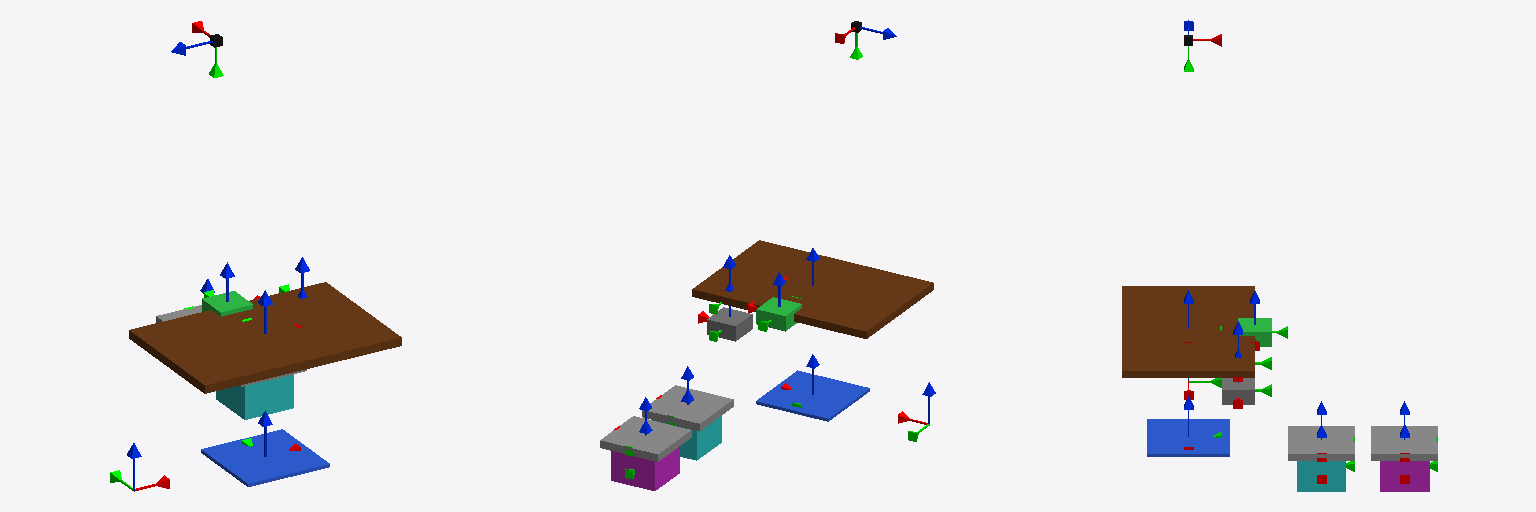
--- Render facts (derived) ---
3 views of the same robot in one strip: view 1: azimuth 30°, elevation 25°; view 2: azimuth 150°, elevation 25°; view 3: azimuth 270°, elevation 25° (orthographic).
Model burger_delivery_visual with 12 links and 11 joints (11 fixed), rooted at map, posed all joints at 0.
Visible links, largest first — view 1: table_link, staging_area, robot_a_base_link, delivery_slot_1, overhead_camera_link, map; view 2: table_link, staging_area, robot_b_tray_frame, robot_a_tray_frame, robot_b_base_link, kinova_base_link, delivery_slot_1, robot_a_base_link, overhead_camera_link; view 3: table_link, staging_area, robot_a_tray_frame, robot_b_tray_frame, robot_b_base_link, robot_a_base_link, kinova_base_link, delivery_slot_1.
Link boxes in pixels (<box>): table_link: <box>129,282,401,393</box>; staging_area: <box>201,410,329,486</box>; robot_a_base_link: <box>216,374,293,419</box>; delivery_slot_1: <box>202,262,260,316</box>; overhead_camera_link: <box>171,21,223,77</box>; map: <box>110,443,169,491</box>; table_link: <box>692,240,933,338</box>; staging_area: <box>756,354,869,421</box>; robot_b_tray_frame: <box>600,397,691,461</box>; robot_a_tray_frame: <box>642,366,733,430</box>; robot_b_base_link: <box>611,421,679,490</box>; kinova_base_link: <box>698,284,752,341</box>; delivery_slot_1: <box>748,272,801,331</box>; robot_a_base_link: <box>653,391,721,460</box>; overhead_camera_link: <box>835,21,896,59</box>; table_link: <box>1122,286,1254,377</box>; staging_area: <box>1147,396,1229,456</box>; robot_a_tray_frame: <box>1288,401,1354,461</box>; robot_b_tray_frame: <box>1371,401,1437,461</box>; robot_b_base_link: <box>1380,425,1437,491</box>; robot_a_base_link: <box>1297,426,1354,491</box>; kinova_base_link: <box>1222,350,1271,408</box>; delivery_slot_1: <box>1238,291,1287,350</box>.
Size in the robot's own frame: 1.43 by 1.9 by 2.63 metres.
83 mesh visuals loaded from 2 distinct referenced files (2 ASCII STL).

URDF robot description (burger_delivery_visual):
<?xml version="1.0"?>
<robot name="burger_delivery_visual">
  <!-- Links -->
  <!-- map link is defined later with axis visuals -->

  <link name="table_link">
    <visual name="table_top">
      <origin xyz="0 0 0" rpy="0 0 0"/>
      <geometry>
        <mesh filename="meshes/cube_1m.stl" scale="1.2 0.8 0.05"/>
      </geometry>
      <material name="table_brown">
        <color rgba="0.45 0.25 0.10 1.0"/>
      </material>
    </visual>
    <!-- Axes markers -->
    <visual name="axis_x">
      <origin xyz="0.1 0 0" rpy="0 0 0"/>
      <geometry>
        <mesh filename="meshes/cube_1m.stl" scale="0.2 0.01 0.01"/>
      </geometry>
      <material name="axis_red">
        <color rgba="1.0 0.0 0.0 1.0"/>
      </material>
    </visual>
    <visual name="axis_y">
      <origin xyz="0 0.1 0" rpy="0 0 0"/>
      <geometry>
        <mesh filename="meshes/cube_1m.stl" scale="0.01 0.2 0.01"/>
      </geometry>
      <material name="axis_green">
        <color rgba="0.0 1.0 0.0 1.0"/>
      </material>
    </visual>
    <visual name="axis_z">
      <origin xyz="0 0 0.1" rpy="0 0 0"/>
      <geometry>
        <mesh filename="meshes/cube_1m.stl" scale="0.01 0.01 0.2"/>
      </geometry>
      <material name="axis_blue">
        <color rgba="0.0 0.2 1.0 1.0"/>
      </material>
    </visual>
    <visual name="axis_x_head">
      <origin xyz="0.2 0 0" rpy="0 -1.5708 0"/>
      <geometry>
        <mesh filename="meshes/arrow_pyramid_1m.stl" scale="0.06 0.06 0.08"/>
      </geometry>
      <material name="axis_red">
        <color rgba="1.0 0.0 0.0 1.0"/>
      </material>
    </visual>
    <visual name="axis_y_head">
      <origin xyz="0 0.2 0" rpy="1.5708 0 0"/>
      <geometry>
        <mesh filename="meshes/arrow_pyramid_1m.stl" scale="0.06 0.06 0.08"/>
      </geometry>
      <material name="axis_green">
        <color rgba="0.0 1.0 0.0 1.0"/>
      </material>
    </visual>
    <visual name="axis_z_head">
      <origin xyz="0 0 0.2" rpy="0 0 0"/>
      <geometry>
        <mesh filename="meshes/arrow_pyramid_1m.stl" scale="0.06 0.06 0.08"/>
      </geometry>
      <material name="axis_blue">
        <color rgba="0.0 0.2 1.0 1.0"/>
      </material>
    </visual>
  </link>

  <link name="staging_area">
    <visual name="staging_pad">
      <geometry>
        <mesh filename="meshes/cube_1m.stl" scale="0.5 0.5 0.02"/>
      </geometry>
      <material name="staging_blue">
        <color rgba="0.2 0.4 0.9 0.7"/>
      </material>
    </visual>
    <visual name="axis_x">
      <origin xyz="0.1 0 0" rpy="0 0 0"/>
      <geometry>
        <mesh filename="meshes/cube_1m.stl" scale="0.2 0.01 0.01"/>
      </geometry>
      <material name="axis_red">
        <color rgba="1.0 0.0 0.0 1.0"/>
      </material>
    </visual>
    <visual name="axis_y">
      <origin xyz="0 0.1 0" rpy="0 0 0"/>
      <geometry>
        <mesh filename="meshes/cube_1m.stl" scale="0.01 0.2 0.01"/>
      </geometry>
      <material name="axis_green">
        <color rgba="0.0 1.0 0.0 1.0"/>
      </material>
    </visual>
    <visual name="axis_z">
      <origin xyz="0 0 0.1" rpy="0 0 0"/>
      <geometry>
        <mesh filename="meshes/cube_1m.stl" scale="0.01 0.01 0.2"/>
      </geometry>
      <material name="axis_blue">
        <color rgba="0.0 0.2 1.0 1.0"/>
      </material>
    </visual>
    <visual name="axis_x_head">
      <origin xyz="0.2 0 0" rpy="0 -1.5708 0"/>
      <geometry>
        <mesh filename="meshes/arrow_pyramid_1m.stl" scale="0.06 0.06 0.08"/>
      </geometry>
      <material name="axis_red">
        <color rgba="1.0 0.0 0.0 1.0"/>
      </material>
    </visual>
    <visual name="axis_y_head">
      <origin xyz="0 0.2 0" rpy="1.5708 0 0"/>
      <geometry>
        <mesh filename="meshes/arrow_pyramid_1m.stl" scale="0.06 0.06 0.08"/>
      </geometry>
      <material name="axis_green">
        <color rgba="0.0 1.0 0.0 1.0"/>
      </material>
    </visual>
    <visual name="axis_z_head">
      <origin xyz="0 0 0.2" rpy="0 0 0"/>
      <geometry>
        <mesh filename="meshes/arrow_pyramid_1m.stl" scale="0.06 0.06 0.08"/>
      </geometry>
      <material name="axis_blue">
        <color rgba="0.0 0.2 1.0 1.0"/>
      </material>
    </visual>
  </link>

  <link name="delivery_slot_1">
    <visual name="delivery_slot">
      <geometry>
        <mesh filename="meshes/cube_1m.stl" scale="0.2 0.2 0.1"/>
      </geometry>
      <material name="slot_green">
        <color rgba="0.2 0.8 0.3 1.0"/>
      </material>
    </visual>
    <visual name="axis_x">
      <origin xyz="0.1 0 0" rpy="0 0 0"/>
      <geometry>
        <mesh filename="meshes/cube_1m.stl" scale="0.2 0.01 0.01"/>
      </geometry>
      <material name="axis_red">
        <color rgba="1.0 0.0 0.0 1.0"/>
      </material>
    </visual>
    <visual name="axis_y">
      <origin xyz="0 0.1 0" rpy="0 0 0"/>
      <geometry>
        <mesh filename="meshes/cube_1m.stl" scale="0.01 0.2 0.01"/>
      </geometry>
      <material name="axis_green">
        <color rgba="0.0 1.0 0.0 1.0"/>
      </material>
    </visual>
    <visual name="axis_z">
      <origin xyz="0 0 0.1" rpy="0 0 0"/>
      <geometry>
        <mesh filename="meshes/cube_1m.stl" scale="0.01 0.01 0.2"/>
      </geometry>
      <material name="axis_blue">
        <color rgba="0.0 0.2 1.0 1.0"/>
      </material>
    </visual>
    <visual name="axis_x_head">
      <origin xyz="0.2 0 0" rpy="0 -1.5708 0"/>
      <geometry>
        <mesh filename="meshes/arrow_pyramid_1m.stl" scale="0.06 0.06 0.08"/>
      </geometry>
      <material name="axis_red">
        <color rgba="1.0 0.0 0.0 1.0"/>
      </material>
    </visual>
    <visual name="axis_y_head">
      <origin xyz="0 0.2 0" rpy="1.5708 0 0"/>
      <geometry>
        <mesh filename="meshes/arrow_pyramid_1m.stl" scale="0.06 0.06 0.08"/>
      </geometry>
      <material name="axis_green">
        <color rgba="0.0 1.0 0.0 1.0"/>
      </material>
    </visual>
    <visual name="axis_z_head">
      <origin xyz="0 0 0.2" rpy="0 0 0"/>
      <geometry>
        <mesh filename="meshes/arrow_pyramid_1m.stl" scale="0.06 0.06 0.08"/>
      </geometry>
      <material name="axis_blue">
        <color rgba="0.0 0.2 1.0 1.0"/>
      </material>
    </visual>
  </link>

  <link name="kinova_base_link">
    <visual name="kinova_base">
      <geometry>
        <mesh filename="meshes/cube_1m.stl" scale="0.2 0.2 0.1"/>
      </geometry>
      <material name="kinova_base_gray">
        <color rgba="0.5 0.5 0.5 1.0"/>
      </material>
    </visual>
    <visual name="axis_x">
      <origin xyz="0.1 0 0" rpy="0 0 0"/>
      <geometry>
        <mesh filename="meshes/cube_1m.stl" scale="0.2 0.01 0.01"/>
      </geometry>
      <material name="axis_red">
        <color rgba="1.0 0.0 0.0 1.0"/>
      </material>
    </visual>
    <visual name="axis_y">
      <origin xyz="0 0.1 0" rpy="0 0 0"/>
      <geometry>
        <mesh filename="meshes/cube_1m.stl" scale="0.01 0.2 0.01"/>
      </geometry>
      <material name="axis_green">
        <color rgba="0.0 1.0 0.0 1.0"/>
      </material>
    </visual>
    <visual name="axis_z">
      <origin xyz="0 0 0.1" rpy="0 0 0"/>
      <geometry>
        <mesh filename="meshes/cube_1m.stl" scale="0.01 0.01 0.2"/>
      </geometry>
      <material name="axis_blue">
        <color rgba="0.0 0.2 1.0 1.0"/>
      </material>
    </visual>
    <visual name="axis_x_head">
      <origin xyz="0.2 0 0" rpy="0 -1.5708 0"/>
      <geometry>
        <mesh filename="meshes/arrow_pyramid_1m.stl" scale="0.06 0.06 0.08"/>
      </geometry>
      <material name="axis_red">
        <color rgba="1.0 0.0 0.0 1.0"/>
      </material>
    </visual>
    <visual name="axis_y_head">
      <origin xyz="0 0.2 0" rpy="1.5708 0 0"/>
      <geometry>
        <mesh filename="meshes/arrow_pyramid_1m.stl" scale="0.06 0.06 0.08"/>
      </geometry>
      <material name="axis_green">
        <color rgba="0.0 1.0 0.0 1.0"/>
      </material>
    </visual>
    <visual name="axis_z_head">
      <origin xyz="0 0 0.2" rpy="0 0 0"/>
      <geometry>
        <mesh filename="meshes/arrow_pyramid_1m.stl" scale="0.06 0.06 0.08"/>
      </geometry>
      <material name="axis_blue">
        <color rgba="0.0 0.2 1.0 1.0"/>
      </material>
    </visual>
  </link>

  <link name="kinova_tool_frame">
    <visual name="kinova_tool">
      <geometry>
        <mesh filename="meshes/cube_1m.stl" scale="0.06 0.06 0.06"/>
      </geometry>
      <material name="tool_orange">
        <color rgba="0.9 0.5 0.2 1.0"/>
      </material>
    </visual>
    <visual name="axis_x">
      <origin xyz="0.1 0 0" rpy="0 0 0"/>
      <geometry>
        <mesh filename="meshes/cube_1m.stl" scale="0.2 0.01 0.01"/>
      </geometry>
      <material name="axis_red">
        <color rgba="1.0 0.0 0.0 1.0"/>
      </material>
    </visual>
    <visual name="axis_y">
      <origin xyz="0 0.1 0" rpy="0 0 0"/>
      <geometry>
        <mesh filename="meshes/cube_1m.stl" scale="0.01 0.2 0.01"/>
      </geometry>
      <material name="axis_green">
        <color rgba="0.0 1.0 0.0 1.0"/>
      </material>
    </visual>
    <visual name="axis_z">
      <origin xyz="0 0 0.1" rpy="0 0 0"/>
      <geometry>
        <mesh filename="meshes/cube_1m.stl" scale="0.01 0.01 0.2"/>
      </geometry>
      <material name="axis_blue">
        <color rgba="0.0 0.2 1.0 1.0"/>
      </material>
    </visual>
    <visual name="axis_x_head">
      <origin xyz="0.2 0 0" rpy="0 -1.5708 0"/>
      <geometry>
        <mesh filename="meshes/arrow_pyramid_1m.stl" scale="0.06 0.06 0.08"/>
      </geometry>
      <material name="axis_red">
        <color rgba="1.0 0.0 0.0 1.0"/>
      </material>
    </visual>
    <visual name="axis_y_head">
      <origin xyz="0 0.2 0" rpy="1.5708 0 0"/>
      <geometry>
        <mesh filename="meshes/arrow_pyramid_1m.stl" scale="0.06 0.06 0.08"/>
      </geometry>
      <material name="axis_green">
        <color rgba="0.0 1.0 0.0 1.0"/>
      </material>
    </visual>
    <visual name="axis_z_head">
      <origin xyz="0 0 0.2" rpy="0 0 0"/>
      <geometry>
        <mesh filename="meshes/arrow_pyramid_1m.stl" scale="0.06 0.06 0.08"/>
      </geometry>
      <material name="axis_blue">
        <color rgba="0.0 0.2 1.0 1.0"/>
      </material>
    </visual>
  </link>

  <link name="burger_grip_frame">
    <visual name="burger_grip">
      <geometry>
        <mesh filename="meshes/cube_1m.stl" scale="0.04 0.08 0.02"/>
      </geometry>
      <material name="grip_red">
        <color rgba="0.9 0.2 0.2 1.0"/>
      </material>
    </visual>
    <visual name="axis_x">
      <origin xyz="0.1 0 0" rpy="0 0 0"/>
      <geometry>
        <mesh filename="meshes/cube_1m.stl" scale="0.2 0.01 0.01"/>
      </geometry>
      <material name="axis_red">
        <color rgba="1.0 0.0 0.0 1.0"/>
      </material>
    </visual>
    <visual name="axis_y">
      <origin xyz="0 0.1 0" rpy="0 0 0"/>
      <geometry>
        <mesh filename="meshes/cube_1m.stl" scale="0.01 0.2 0.01"/>
      </geometry>
      <material name="axis_green">
        <color rgba="0.0 1.0 0.0 1.0"/>
      </material>
    </visual>
    <visual name="axis_z">
      <origin xyz="0 0 0.1" rpy="0 0 0"/>
      <geometry>
        <mesh filename="meshes/cube_1m.stl" scale="0.01 0.01 0.2"/>
      </geometry>
      <material name="axis_blue">
        <color rgba="0.0 0.2 1.0 1.0"/>
      </material>
    </visual>
    <visual name="axis_x_head">
      <origin xyz="0.2 0 0" rpy="0 -1.5708 0"/>
      <geometry>
        <mesh filename="meshes/arrow_pyramid_1m.stl" scale="0.06 0.06 0.08"/>
      </geometry>
      <material name="axis_red">
        <color rgba="1.0 0.0 0.0 1.0"/>
      </material>
    </visual>
    <visual name="axis_y_head">
      <origin xyz="0 0.2 0" rpy="1.5708 0 0"/>
      <geometry>
        <mesh filename="meshes/arrow_pyramid_1m.stl" scale="0.06 0.06 0.08"/>
      </geometry>
      <material name="axis_green">
        <color rgba="0.0 1.0 0.0 1.0"/>
      </material>
    </visual>
    <visual name="axis_z_head">
      <origin xyz="0 0 0.2" rpy="0 0 0"/>
      <geometry>
        <mesh filename="meshes/arrow_pyramid_1m.stl" scale="0.06 0.06 0.08"/>
      </geometry>
      <material name="axis_blue">
        <color rgba="0.0 0.2 1.0 1.0"/>
      </material>
    </visual>
  </link>

  <link name="robot_a_base_link">
    <visual name="robot_a_base">
      <geometry>
        <mesh filename="meshes/cube_1m.stl" scale="0.3 0.3 0.2"/>
      </geometry>
      <material name="a_base_cyan">
        <color rgba="0.2 0.8 0.8 1.0"/>
      </material>
    </visual>
    <visual name="axis_x">
      <origin xyz="0.1 0 0" rpy="0 0 0"/>
      <geometry>
        <mesh filename="meshes/cube_1m.stl" scale="0.2 0.01 0.01"/>
      </geometry>
      <material name="axis_red">
        <color rgba="1.0 0.0 0.0 1.0"/>
      </material>
    </visual>
    <visual name="axis_y">
      <origin xyz="0 0.1 0" rpy="0 0 0"/>
      <geometry>
        <mesh filename="meshes/cube_1m.stl" scale="0.01 0.2 0.01"/>
      </geometry>
      <material name="axis_green">
        <color rgba="0.0 1.0 0.0 1.0"/>
      </material>
    </visual>
    <visual name="axis_z">
      <origin xyz="0 0 0.1" rpy="0 0 0"/>
      <geometry>
        <mesh filename="meshes/cube_1m.stl" scale="0.01 0.01 0.2"/>
      </geometry>
      <material name="axis_blue">
        <color rgba="0.0 0.2 1.0 1.0"/>
      </material>
    </visual>
    <visual name="axis_x_head">
      <origin xyz="0.2 0 0" rpy="0 -1.5708 0"/>
      <geometry>
        <mesh filename="meshes/arrow_pyramid_1m.stl" scale="0.06 0.06 0.08"/>
      </geometry>
      <material name="axis_red">
        <color rgba="1.0 0.0 0.0 1.0"/>
      </material>
    </visual>
    <visual name="axis_y_head">
      <origin xyz="0 0.2 0" rpy="1.5708 0 0"/>
      <geometry>
        <mesh filename="meshes/arrow_pyramid_1m.stl" scale="0.06 0.06 0.08"/>
      </geometry>
      <material name="axis_green">
        <color rgba="0.0 1.0 0.0 1.0"/>
      </material>
    </visual>
    <visual name="axis_z_head">
      <origin xyz="0 0 0.2" rpy="0 0 0"/>
      <geometry>
        <mesh filename="meshes/arrow_pyramid_1m.stl" scale="0.06 0.06 0.08"/>
      </geometry>
      <material name="axis_blue">
        <color rgba="0.0 0.2 1.0 1.0"/>
      </material>
    </visual>
  </link>

  <link name="robot_a_tray_frame">
    <visual name="robot_a_tray">
      <geometry>
        <mesh filename="meshes/cube_1m.stl" scale="0.4 0.4 0.05"/>
      </geometry>
      <material name="a_tray_gray">
        <color rgba="0.6 0.6 0.6 1.0"/>
      </material>
    </visual>
    <visual name="axis_x">
      <origin xyz="0.1 0 0" rpy="0 0 0"/>
      <geometry>
        <mesh filename="meshes/cube_1m.stl" scale="0.2 0.01 0.01"/>
      </geometry>
      <material name="axis_red">
        <color rgba="1.0 0.0 0.0 1.0"/>
      </material>
    </visual>
    <visual name="axis_y">
      <origin xyz="0 0.1 0" rpy="0 0 0"/>
      <geometry>
        <mesh filename="meshes/cube_1m.stl" scale="0.01 0.2 0.01"/>
      </geometry>
      <material name="axis_green">
        <color rgba="0.0 1.0 0.0 1.0"/>
      </material>
    </visual>
    <visual name="axis_z">
      <origin xyz="0 0 0.1" rpy="0 0 0"/>
      <geometry>
        <mesh filename="meshes/cube_1m.stl" scale="0.01 0.01 0.2"/>
      </geometry>
      <material name="axis_blue">
        <color rgba="0.0 0.2 1.0 1.0"/>
      </material>
    </visual>
    <visual name="axis_x_head">
      <origin xyz="0.2 0 0" rpy="0 -1.5708 0"/>
      <geometry>
        <mesh filename="meshes/arrow_pyramid_1m.stl" scale="0.06 0.06 0.08"/>
      </geometry>
      <material name="axis_red">
        <color rgba="1.0 0.0 0.0 1.0"/>
      </material>
    </visual>
    <visual name="axis_y_head">
      <origin xyz="0 0.2 0" rpy="1.5708 0 0"/>
      <geometry>
        <mesh filename="meshes/arrow_pyramid_1m.stl" scale="0.06 0.06 0.08"/>
      </geometry>
      <material name="axis_green">
        <color rgba="0.0 1.0 0.0 1.0"/>
      </material>
    </visual>
    <visual name="axis_z_head">
      <origin xyz="0 0 0.2" rpy="0 0 0"/>
      <geometry>
        <mesh filename="meshes/arrow_pyramid_1m.stl" scale="0.06 0.06 0.08"/>
      </geometry>
      <material name="axis_blue">
        <color rgba="0.0 0.2 1.0 1.0"/>
      </material>
    </visual>
  </link>

  <link name="robot_b_base_link">
    <visual name="robot_b_base">
      <geometry>
        <mesh filename="meshes/cube_1m.stl" scale="0.3 0.3 0.2"/>
      </geometry>
      <material name="b_base_magenta">
        <color rgba="0.8 0.2 0.8 1.0"/>
      </material>
    </visual>
    <visual name="axis_x">
      <origin xyz="0.1 0 0" rpy="0 0 0"/>
      <geometry>
        <mesh filename="meshes/cube_1m.stl" scale="0.2 0.01 0.01"/>
      </geometry>
      <material name="axis_red">
        <color rgba="1.0 0.0 0.0 1.0"/>
      </material>
    </visual>
    <visual name="axis_y">
      <origin xyz="0 0.1 0" rpy="0 0 0"/>
      <geometry>
        <mesh filename="meshes/cube_1m.stl" scale="0.01 0.2 0.01"/>
      </geometry>
      <material name="axis_green">
        <color rgba="0.0 1.0 0.0 1.0"/>
      </material>
    </visual>
    <visual name="axis_z">
      <origin xyz="0 0 0.1" rpy="0 0 0"/>
      <geometry>
        <mesh filename="meshes/cube_1m.stl" scale="0.01 0.01 0.2"/>
      </geometry>
      <material name="axis_blue">
        <color rgba="0.0 0.2 1.0 1.0"/>
      </material>
    </visual>
    <visual name="axis_x_head">
      <origin xyz="0.2 0 0" rpy="0 -1.5708 0"/>
      <geometry>
        <mesh filename="meshes/arrow_pyramid_1m.stl" scale="0.06 0.06 0.08"/>
      </geometry>
      <material name="axis_red">
        <color rgba="1.0 0.0 0.0 1.0"/>
      </material>
    </visual>
    <visual name="axis_y_head">
      <origin xyz="0 0.2 0" rpy="1.5708 0 0"/>
      <geometry>
        <mesh filename="meshes/arrow_pyramid_1m.stl" scale="0.06 0.06 0.08"/>
      </geometry>
      <material name="axis_green">
        <color rgba="0.0 1.0 0.0 1.0"/>
      </material>
    </visual>
    <visual name="axis_z_head">
      <origin xyz="0 0 0.2" rpy="0 0 0"/>
      <geometry>
        <mesh filename="meshes/arrow_pyramid_1m.stl" scale="0.06 0.06 0.08"/>
      </geometry>
      <material name="axis_blue">
        <color rgba="0.0 0.2 1.0 1.0"/>
      </material>
    </visual>
  </link>

  <link name="robot_b_tray_frame">
    <visual name="robot_b_tray">
      <geometry>
        <mesh filename="meshes/cube_1m.stl" scale="0.4 0.4 0.05"/>
      </geometry>
      <material name="b_tray_gray">
        <color rgba="0.6 0.6 0.6 1.0"/>
      </material>
    </visual>
    <visual name="axis_x">
      <origin xyz="0.1 0 0" rpy="0 0 0"/>
      <geometry>
        <mesh filename="meshes/cube_1m.stl" scale="0.2 0.01 0.01"/>
      </geometry>
      <material name="axis_red">
        <color rgba="1.0 0.0 0.0 1.0"/>
      </material>
    </visual>
    <visual name="axis_y">
      <origin xyz="0 0.1 0" rpy="0 0 0"/>
      <geometry>
        <mesh filename="meshes/cube_1m.stl" scale="0.01 0.2 0.01"/>
      </geometry>
      <material name="axis_green">
        <color rgba="0.0 1.0 0.0 1.0"/>
      </material>
    </visual>
    <visual name="axis_z">
      <origin xyz="0 0 0.1" rpy="0 0 0"/>
      <geometry>
        <mesh filename="meshes/cube_1m.stl" scale="0.01 0.01 0.2"/>
      </geometry>
      <material name="axis_blue">
        <color rgba="0.0 0.2 1.0 1.0"/>
      </material>
    </visual>
    <visual name="axis_x_head">
      <origin xyz="0.2 0 0" rpy="0 -1.5708 0"/>
      <geometry>
        <mesh filename="meshes/arrow_pyramid_1m.stl" scale="0.06 0.06 0.08"/>
      </geometry>
      <material name="axis_red">
        <color rgba="1.0 0.0 0.0 1.0"/>
      </material>
    </visual>
    <visual name="axis_y_head">
      <origin xyz="0 0.2 0" rpy="1.5708 0 0"/>
      <geometry>
        <mesh filename="meshes/arrow_pyramid_1m.stl" scale="0.06 0.06 0.08"/>
      </geometry>
      <material name="axis_green">
        <color rgba="0.0 1.0 0.0 1.0"/>
      </material>
    </visual>
    <visual name="axis_z_head">
      <origin xyz="0 0 0.2" rpy="0 0 0"/>
      <geometry>
        <mesh filename="meshes/arrow_pyramid_1m.stl" scale="0.06 0.06 0.08"/>
      </geometry>
      <material name="axis_blue">
        <color rgba="0.0 0.2 1.0 1.0"/>
      </material>
    </visual>
  </link>

  <link name="overhead_camera_link">
    <visual name="overhead_camera">
      <geometry>
        <mesh filename="meshes/cube_1m.stl" scale="0.05 0.05 0.05"/>
      </geometry>
      <material name="cam_black">
        <color rgba="0.1 0.1 0.1 1.0"/>
      </material>
    </visual>
    <visual name="axis_x">
      <origin xyz="0.1 0 0" rpy="0 0 0"/>
      <geometry>
        <mesh filename="meshes/cube_1m.stl" scale="0.2 0.01 0.01"/>
      </geometry>
      <material name="axis_red">
        <color rgba="1.0 0.0 0.0 1.0"/>
      </material>
    </visual>
    <visual name="axis_y">
      <origin xyz="0 0.1 0" rpy="0 0 0"/>
      <geometry>
        <mesh filename="meshes/cube_1m.stl" scale="0.01 0.2 0.01"/>
      </geometry>
      <material name="axis_green">
        <color rgba="0.0 1.0 0.0 1.0"/>
      </material>
    </visual>
    <visual name="axis_z">
      <origin xyz="0 0 0.1" rpy="0 0 0"/>
      <geometry>
        <mesh filename="meshes/cube_1m.stl" scale="0.01 0.01 0.2"/>
      </geometry>
      <material name="axis_blue">
        <color rgba="0.0 0.2 1.0 1.0"/>
      </material>
    </visual>
    <visual name="axis_x_head">
      <origin xyz="0.2 0 0" rpy="0 -1.5708 0"/>
      <geometry>
        <mesh filename="meshes/arrow_pyramid_1m.stl" scale="0.06 0.06 0.08"/>
      </geometry>
      <material name="axis_red">
        <color rgba="1.0 0.0 0.0 1.0"/>
      </material>
    </visual>
    <visual name="axis_y_head">
      <origin xyz="0 0.2 0" rpy="1.5708 0 0"/>
      <geometry>
        <mesh filename="meshes/arrow_pyramid_1m.stl" scale="0.06 0.06 0.08"/>
      </geometry>
      <material name="axis_green">
        <color rgba="0.0 1.0 0.0 1.0"/>
      </material>
    </visual>
    <visual name="axis_z_head">
      <origin xyz="0 0 0.2" rpy="0 0 0"/>
      <geometry>
        <mesh filename="meshes/arrow_pyramid_1m.stl" scale="0.06 0.06 0.08"/>
      </geometry>
      <material name="axis_blue">
        <color rgba="0.0 0.2 1.0 1.0"/>
      </material>
    </visual>
  </link>

  <!-- Map link axes (for reference) -->
  <link name="map">
    <visual name="axis_x">
      <origin xyz="0.1 0 0" rpy="0 0 0"/>
      <geometry>
        <mesh filename="meshes/cube_1m.stl" scale="0.2 0.01 0.01"/>
      </geometry>
      <material name="axis_red">
        <color rgba="1.0 0.0 0.0 1.0"/>
      </material>
    </visual>
    <visual name="axis_y">
      <origin xyz="0 0.1 0" rpy="0 0 0"/>
      <geometry>
        <mesh filename="meshes/cube_1m.stl" scale="0.01 0.2 0.01"/>
      </geometry>
      <material name="axis_green">
        <color rgba="0.0 1.0 0.0 1.0"/>
      </material>
    </visual>
    <visual name="axis_z">
      <origin xyz="0 0 0.1" rpy="0 0 0"/>
      <geometry>
        <mesh filename="meshes/cube_1m.stl" scale="0.01 0.01 0.2"/>
      </geometry>
      <material name="axis_blue">
        <color rgba="0.0 0.2 1.0 1.0"/>
      </material>
    </visual>
    <visual name="axis_x_head">
      <origin xyz="0.2 0 0" rpy="0 -1.5708 0"/>
      <geometry>
        <mesh filename="meshes/arrow_pyramid_1m.stl" scale="0.06 0.06 0.08"/>
      </geometry>
      <material name="axis_red">
        <color rgba="1.0 0.0 0.0 1.0"/>
      </material>
    </visual>
    <visual name="axis_y_head">
      <origin xyz="0 0.2 0" rpy="1.5708 0 0"/>
      <geometry>
        <mesh filename="meshes/arrow_pyramid_1m.stl" scale="0.06 0.06 0.08"/>
      </geometry>
      <material name="axis_green">
        <color rgba="0.0 1.0 0.0 1.0"/>
      </material>
    </visual>
    <visual name="axis_z_head">
      <origin xyz="0 0 0.2" rpy="0 0 0"/>
      <geometry>
        <mesh filename="meshes/arrow_pyramid_1m.stl" scale="0.06 0.06 0.08"/>
      </geometry>
      <material name="axis_blue">
        <color rgba="0.0 0.2 1.0 1.0"/>
      </material>
    </visual>
  </link>

  <!-- Joints (pose relationships) -->
  <joint name="map_to_table" type="fixed">
    <parent link="map"/>
    <!-- table thickness = 0.05, top at z=1.0 -> center at 0.975 -->
    <child link="table_link"/>
    <origin xyz="0.80 0.00 0.7" rpy="0 0 0"/>
  </joint>

  <joint name="map_to_staging" type="fixed">
    <parent link="map"/>
    <child link="staging_area"/>
    <origin xyz="0.80 0.00 0.00" rpy="0 0 0"/>
  </joint>

  <joint name="staging_to_delivery_slot_1" type="fixed">
    <parent link="staging_area"/>
    <child link="delivery_slot_1"/>
    <origin xyz="0.00 0.40 0.70" rpy="0 0 0"/>
  </joint>

  <joint name="map_to_kinova_base" type="fixed">
    <parent link="map"/>
    <child link="kinova_base_link"/>
    <origin xyz="1.20 0.30 0.50" rpy="0 0 0"/>
  </joint>

  <!-- Use fixed for visualization to ensure it's visible in viewer -->
  <joint name="kinova_base_to_tool" type="fixed">
    <parent link="kinova_base_link"/>
    <child link="kinova_tool_frame"/>
    <origin xyz="0 0 0.0" rpy="0 0 0"/>
  </joint>

  <joint name="tool_to_grip" type="fixed">
    <parent link="kinova_tool_frame"/>
    <child link="burger_grip_frame"/>
    <origin xyz="0 0 0.18" rpy="0 0 0"/>
  </joint>

  <joint name="map_to_robot_a_base" type="fixed">
    <parent link="map"/>
    <child link="robot_a_base_link"/>
    <origin xyz="1.20 0.80 0.00" rpy="0 0 0"/>
  </joint>

  <joint name="robot_a_base_to_tray" type="fixed">
    <parent link="robot_a_base_link"/>
    <child link="robot_a_tray_frame"/>
    <origin xyz="0.00 0.00 0.15" rpy="0 0 0"/>
  </joint>

  <joint name="map_to_robot_b_base" type="fixed">
    <parent link="map"/>
    <child link="robot_b_base_link"/>
    <origin xyz="1.20 1.30 0.00" rpy="0 0 0"/>
  </joint>

  <joint name="robot_b_base_to_tray" type="fixed">
    <parent link="robot_b_base_link"/>
    <child link="robot_b_tray_frame"/>
    <origin xyz="0.00 0.00 0.15" rpy="0 0 0"/>
  </joint>

  <joint name="map_to_camera" type="fixed">
    <parent link="map"/>
    <child link="overhead_camera_link"/>
    <origin xyz="0.50 0.00 2.50" rpy="-1.5708 0 1.5708"/>
  </joint>

</robot>
